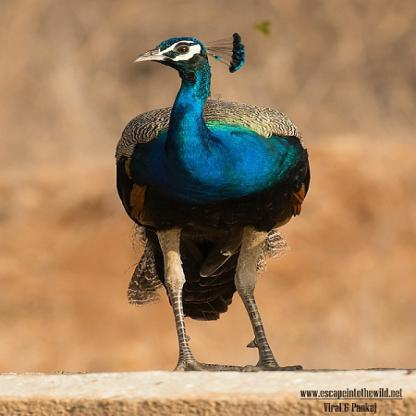Burung: (114, 33, 310, 371)
